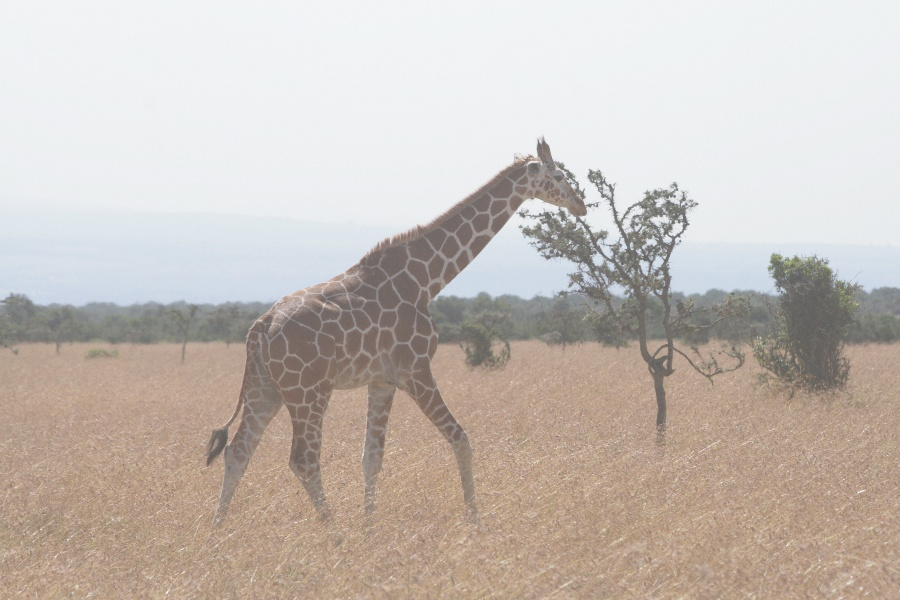giraffe: (185, 129, 592, 547)
